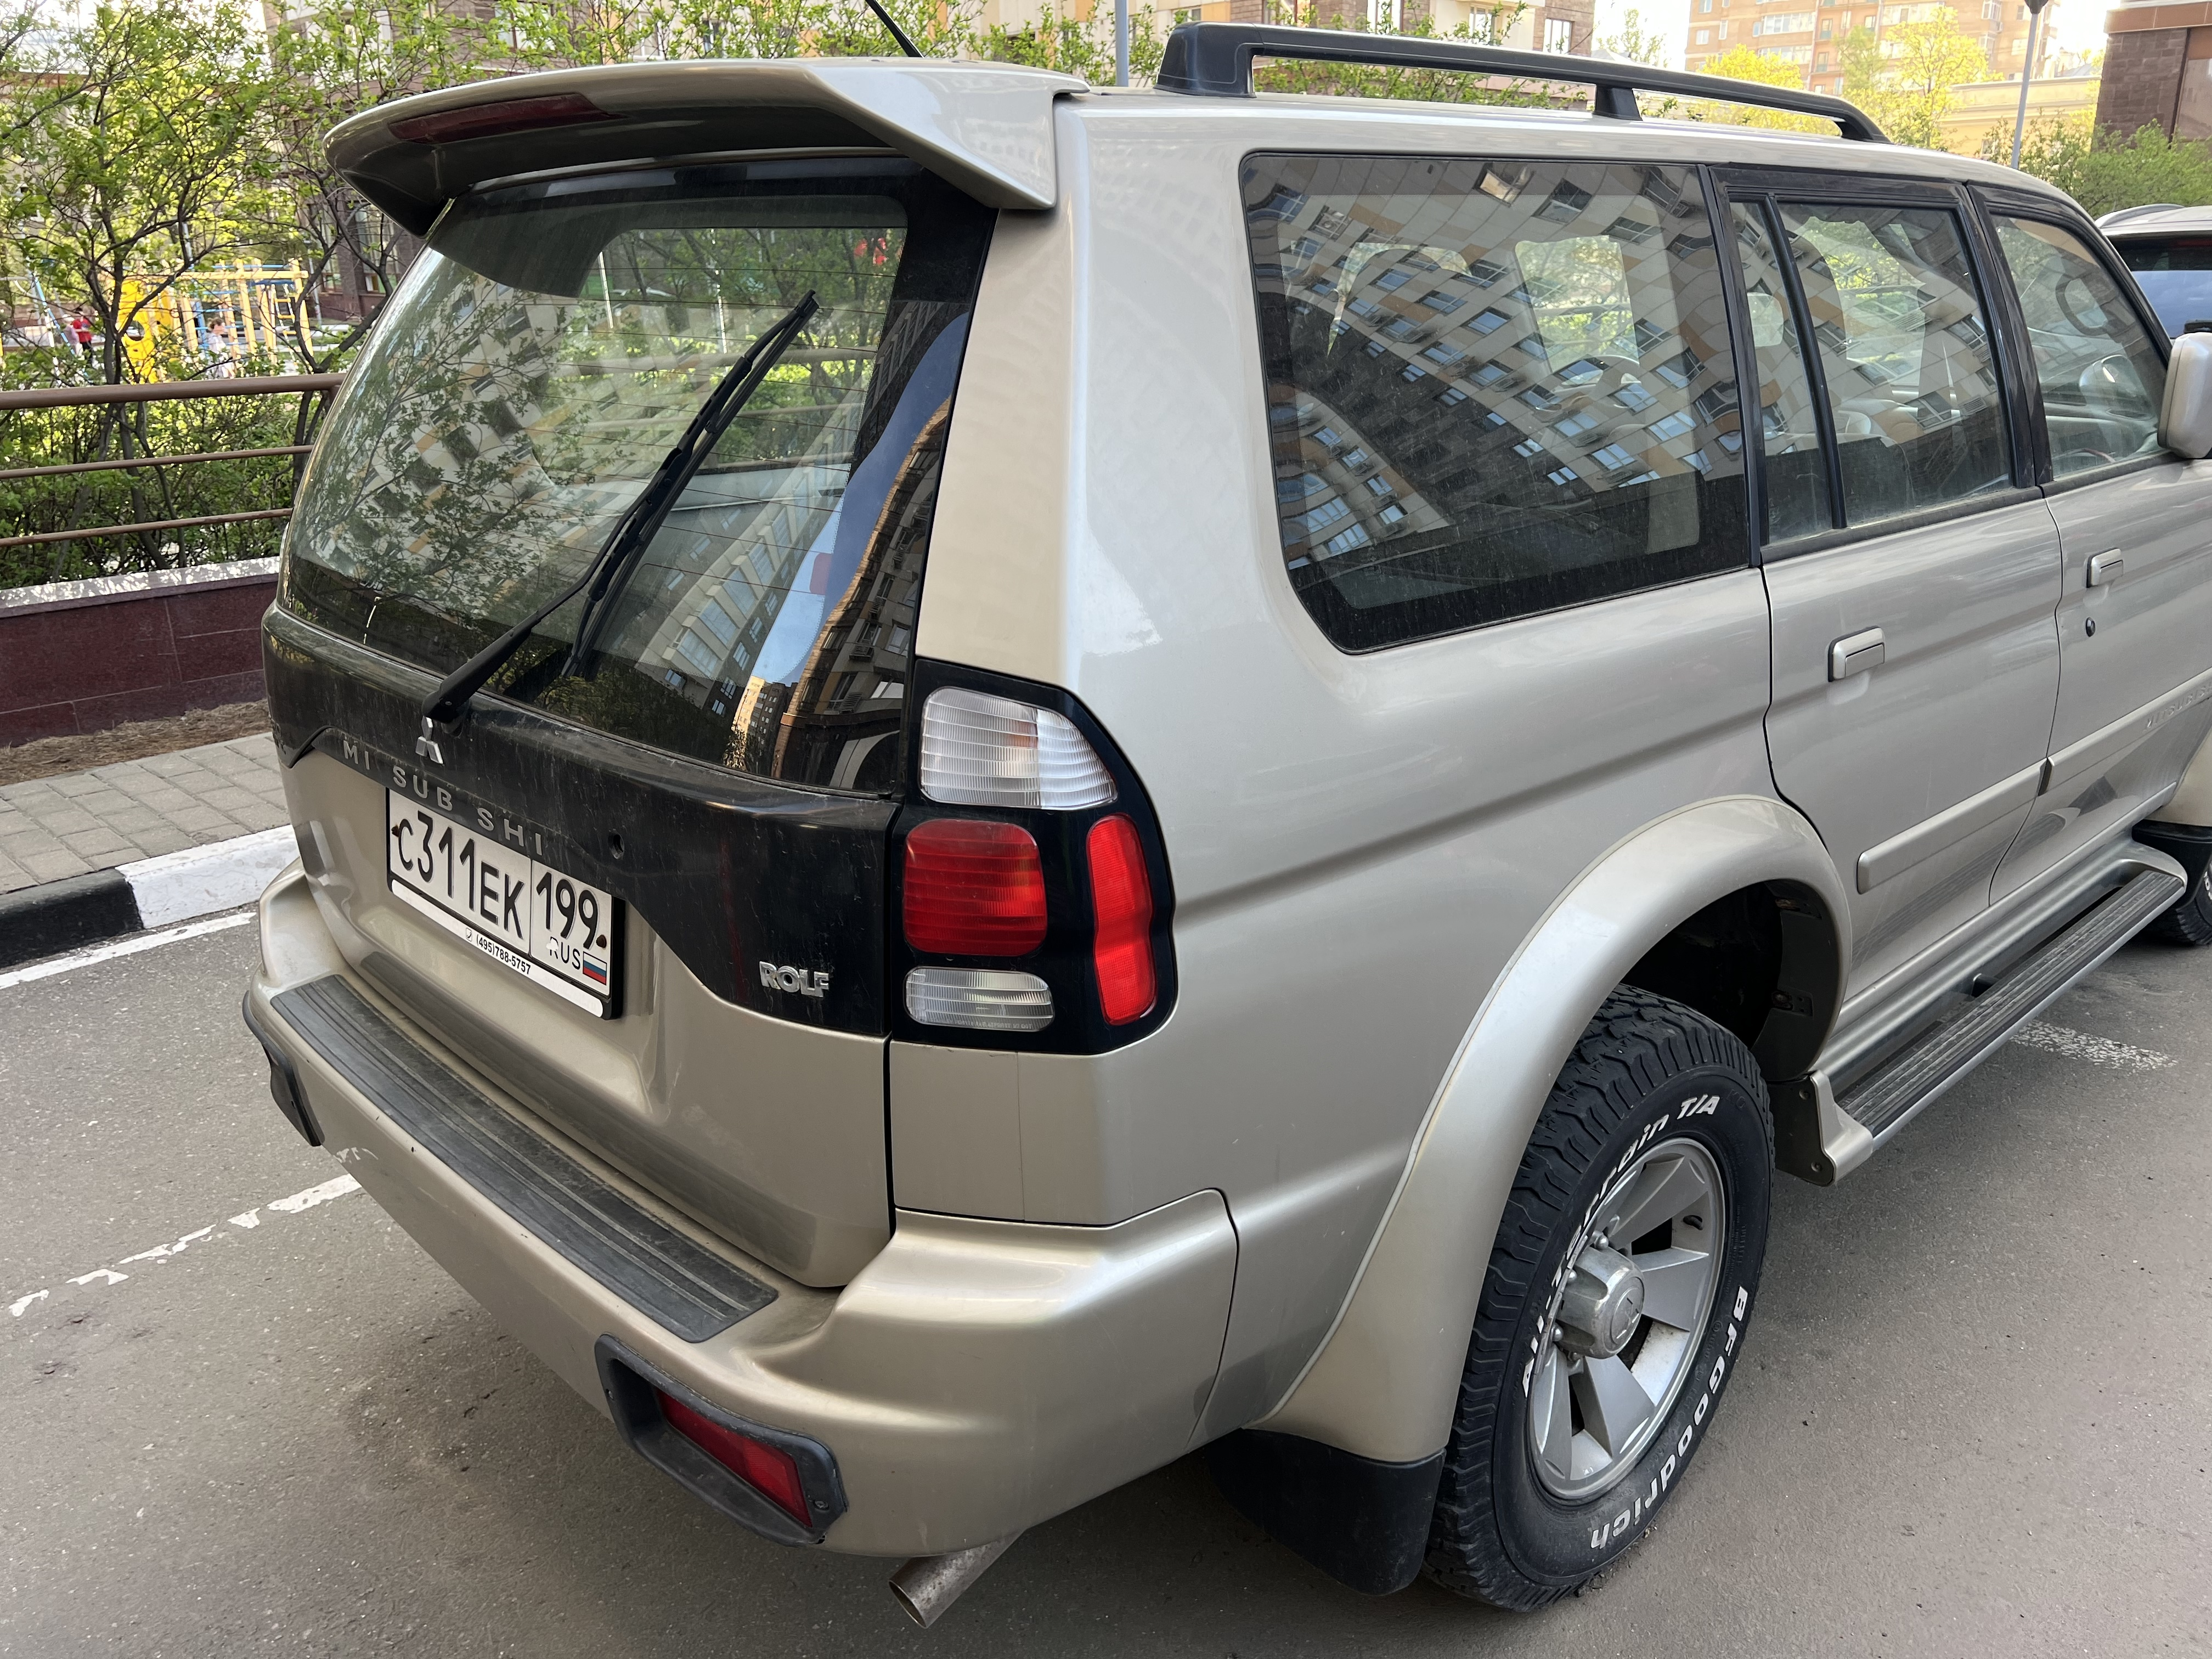00 Krupnie detali. bamper zadniy: (242, 857, 1237, 1558)
03 Krupnie detali. dver zadnyaya pravaya: (1705, 166, 2064, 1079)
05 Krupnie detali. dver perednyaya pravaya: (1966, 179, 2210, 948)
07 Krupnie detali. koleso: (1425, 981, 1775, 1608), (2148, 863, 2212, 950)
09 Krupnie detali. krylo zadnee pravoe: (894, 110, 1773, 1434)
12 Krupnie detali. krysha: (327, 59, 2094, 237)
13 Krupnie detali. kryshka bagazhnika: (261, 606, 899, 1284)
15 Krupnie detali. steklo kuzova zadnee: (280, 150, 993, 795)
16 Melkie detali. antenna: (864, 3, 925, 52)
17 Melkie detali. bolty krepleniya diska kolesa: (1594, 1234, 1608, 1248), (1555, 1328, 1566, 1340), (1568, 1270, 1578, 1281)
21 Melkie detali. kryshka bokovogo zerkala pravaya: (2161, 333, 2210, 460)
28 Melkie detali. nippel dlya kolesa: (1677, 1216, 1705, 1232)
35 Melkie detali. ruchka dveri: (1831, 629, 1886, 678), (2087, 551, 2125, 591)
37 Melkie detali. fonar katafot pravyy v zadniy bamper: (646, 1387, 808, 1530)
38 Melkie detali. shildik marki avto: (340, 735, 549, 868)
39 Melkie detali. emblema: (409, 706, 448, 770)
46 Srednie detali. disk kolesa: (1529, 1140, 1730, 1500)
52 Srednie detali. nakladka na porog pravyy: (1838, 845, 2184, 1143)
56 Srednie detali. podkrylok zadniy pravyy: (1216, 798, 1871, 1584)
58 Srednie detali. podkrylok peredniy pravyy: (2149, 732, 2210, 838)
59 Srednie detali. ramka gosnomera: (390, 791, 617, 1030)
66 Srednie detali. steklo zadney dveri pravoye: (1240, 157, 1756, 650), (1782, 206, 2017, 523)
67 Srednie detali. steklo zadney dveri pravoye (fortochka): (1735, 202, 1825, 535)
69 Srednie detali. steklo peredney dveri pravoye: (1989, 213, 2168, 479)
73 Srednie detali. fonar zadniy pravyy: (887, 657, 1174, 1051)
